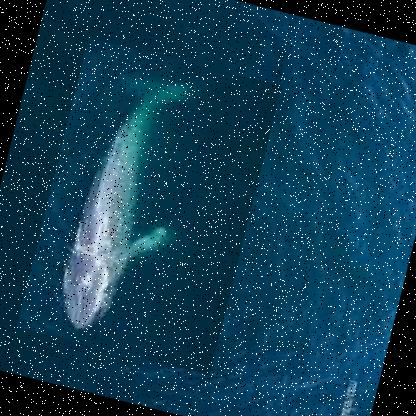blue_whale: (15, 37, 280, 376)
